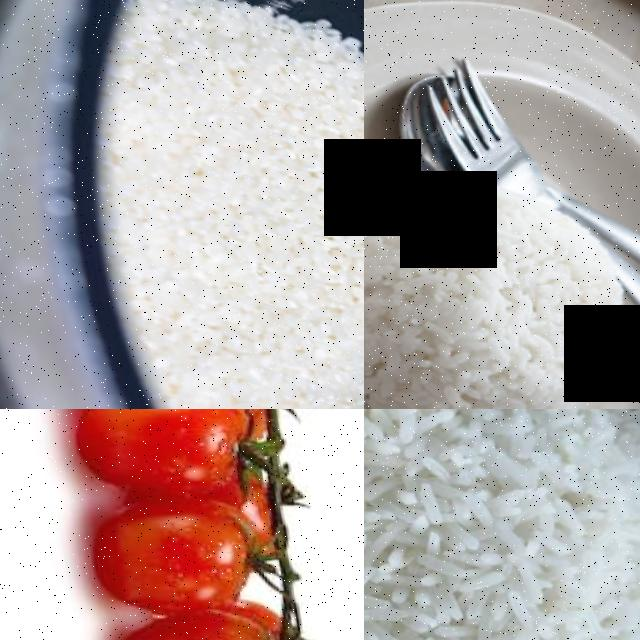tomato: (76, 484, 270, 625), (62, 409, 264, 506), (101, 599, 291, 640)
white rice: (118, 8, 364, 409), (364, 155, 640, 409), (364, 409, 640, 640)
